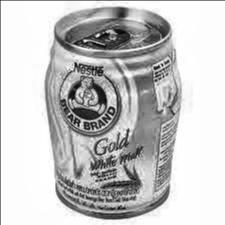can: (39, 3, 190, 222)
